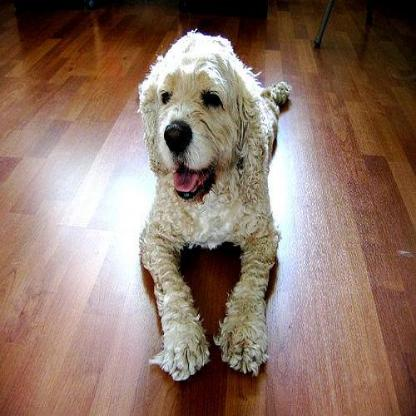cocker_spaniel: (134, 27, 291, 378)
